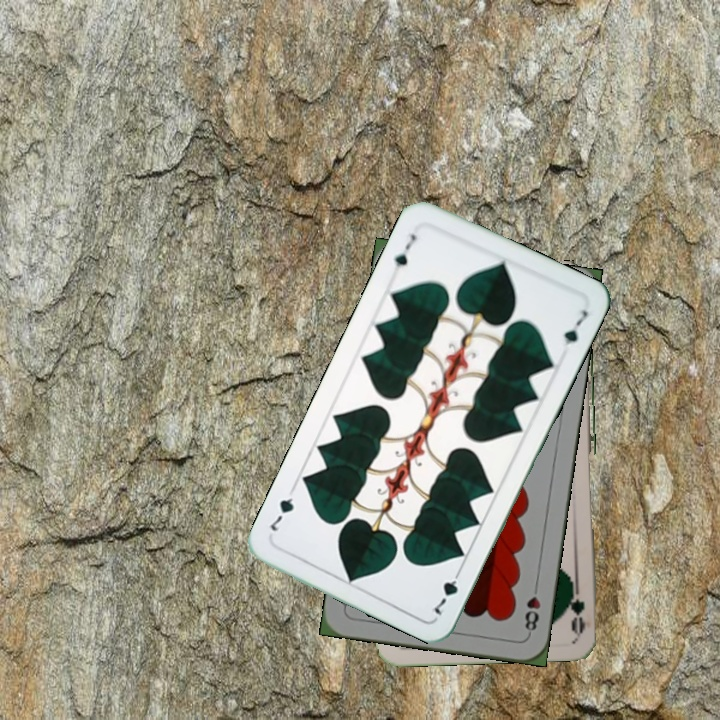G7: (430, 563, 465, 618), (390, 229, 419, 270)
GO: (565, 575, 588, 634)
H8: (520, 579, 543, 638)
